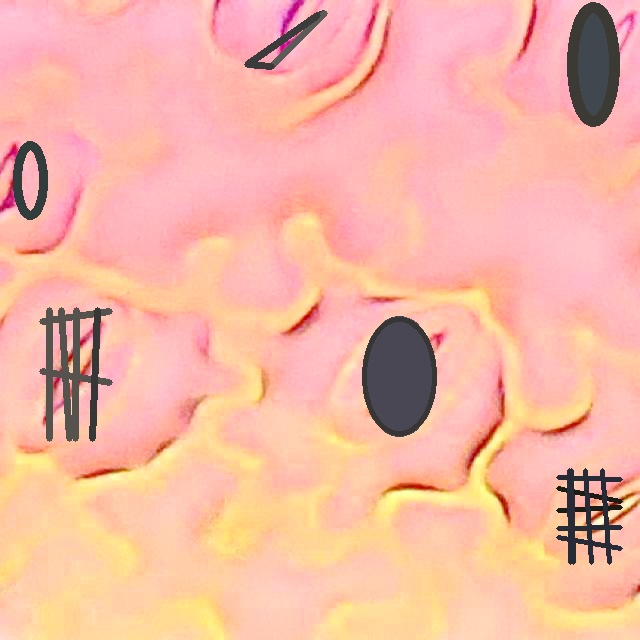open: (39, 307, 112, 441), (362, 315, 436, 436), (567, 1, 619, 126), (556, 469, 622, 563), (244, 12, 327, 69), (13, 142, 46, 219)
